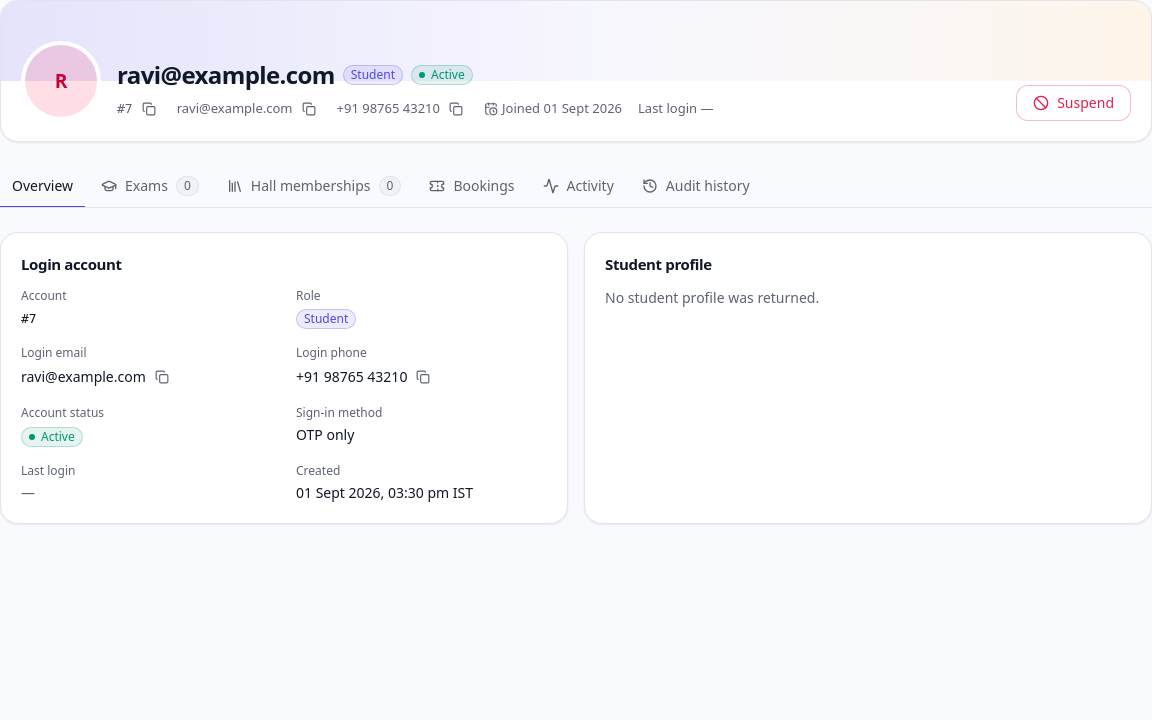
Scenario: User suspension › suspends a student with a mandatory reason
This screenshot has width=1152, height=720.
Click the button "Suspend": (1074, 103) [1016,85,1131,121]
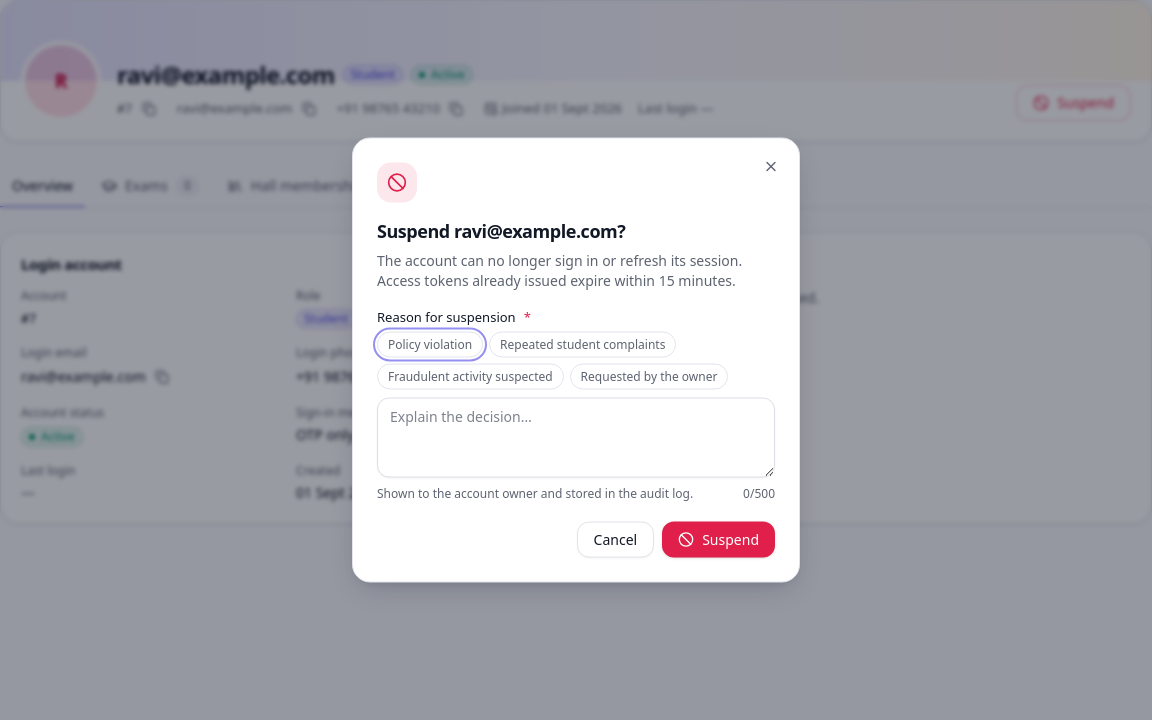
In the text box labelled "Reason for suspension *": (576, 438) [377,398,775,478], type "Fraudulent bookings"
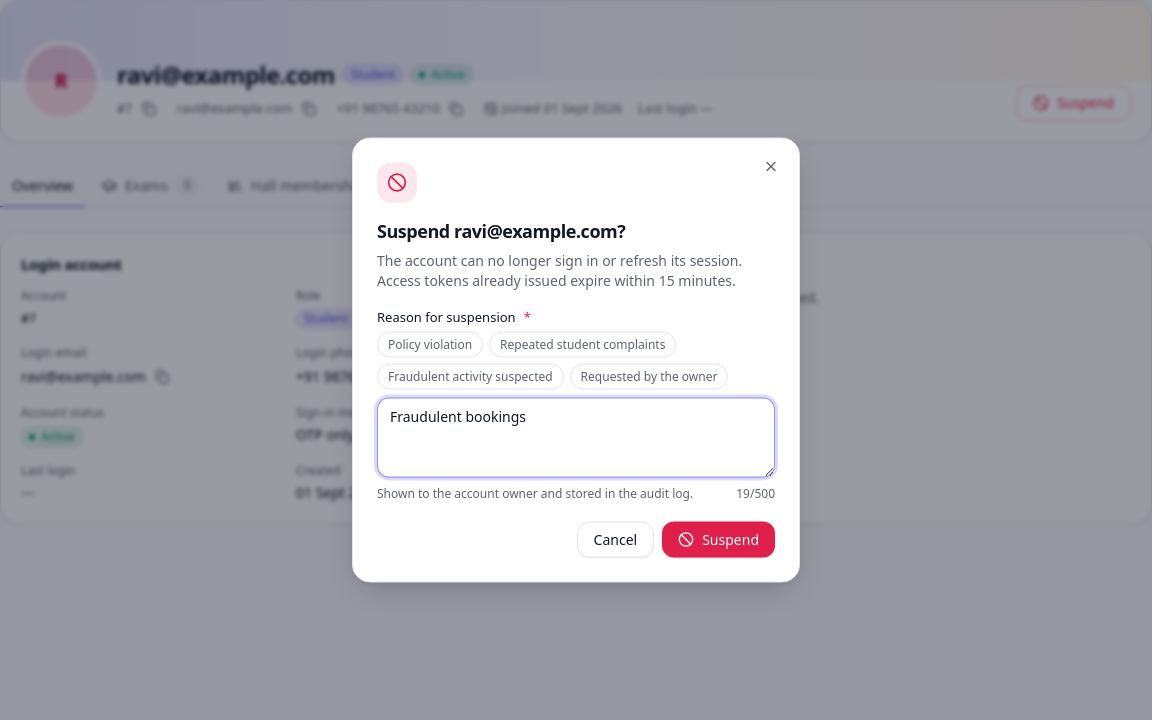
Click the button "Suspend": (719, 540) [662,522,775,558]
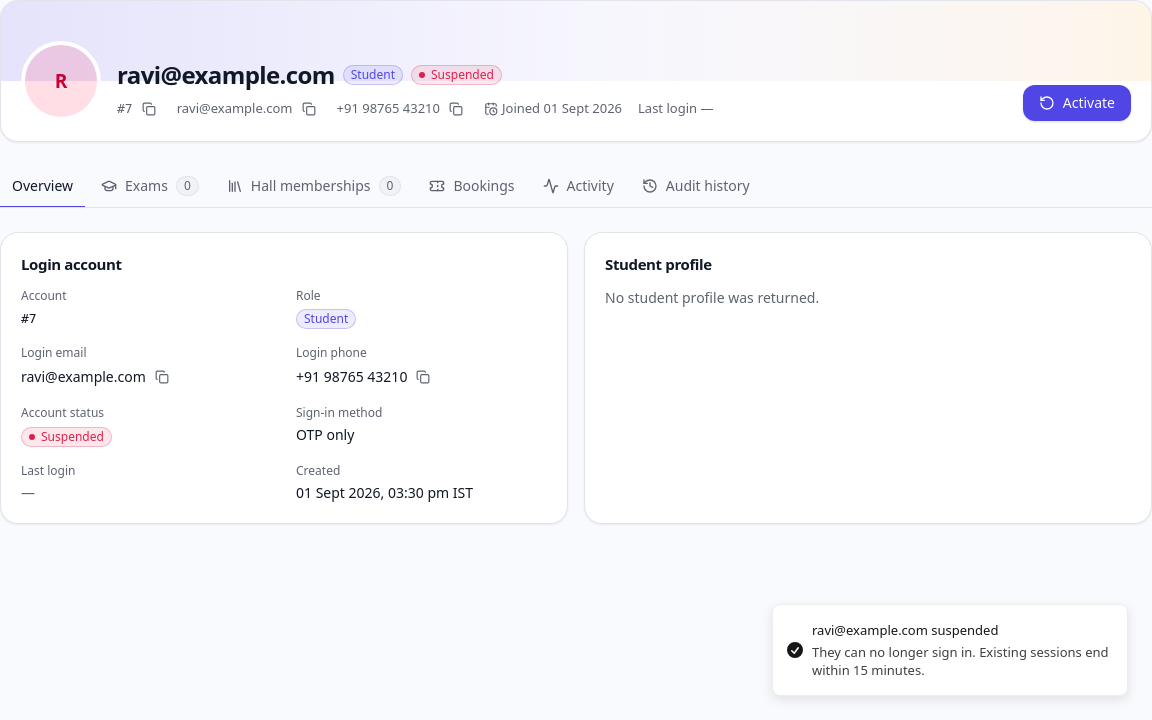
Expected: the button "Activate" is shown, [1023,85,1131,121]
